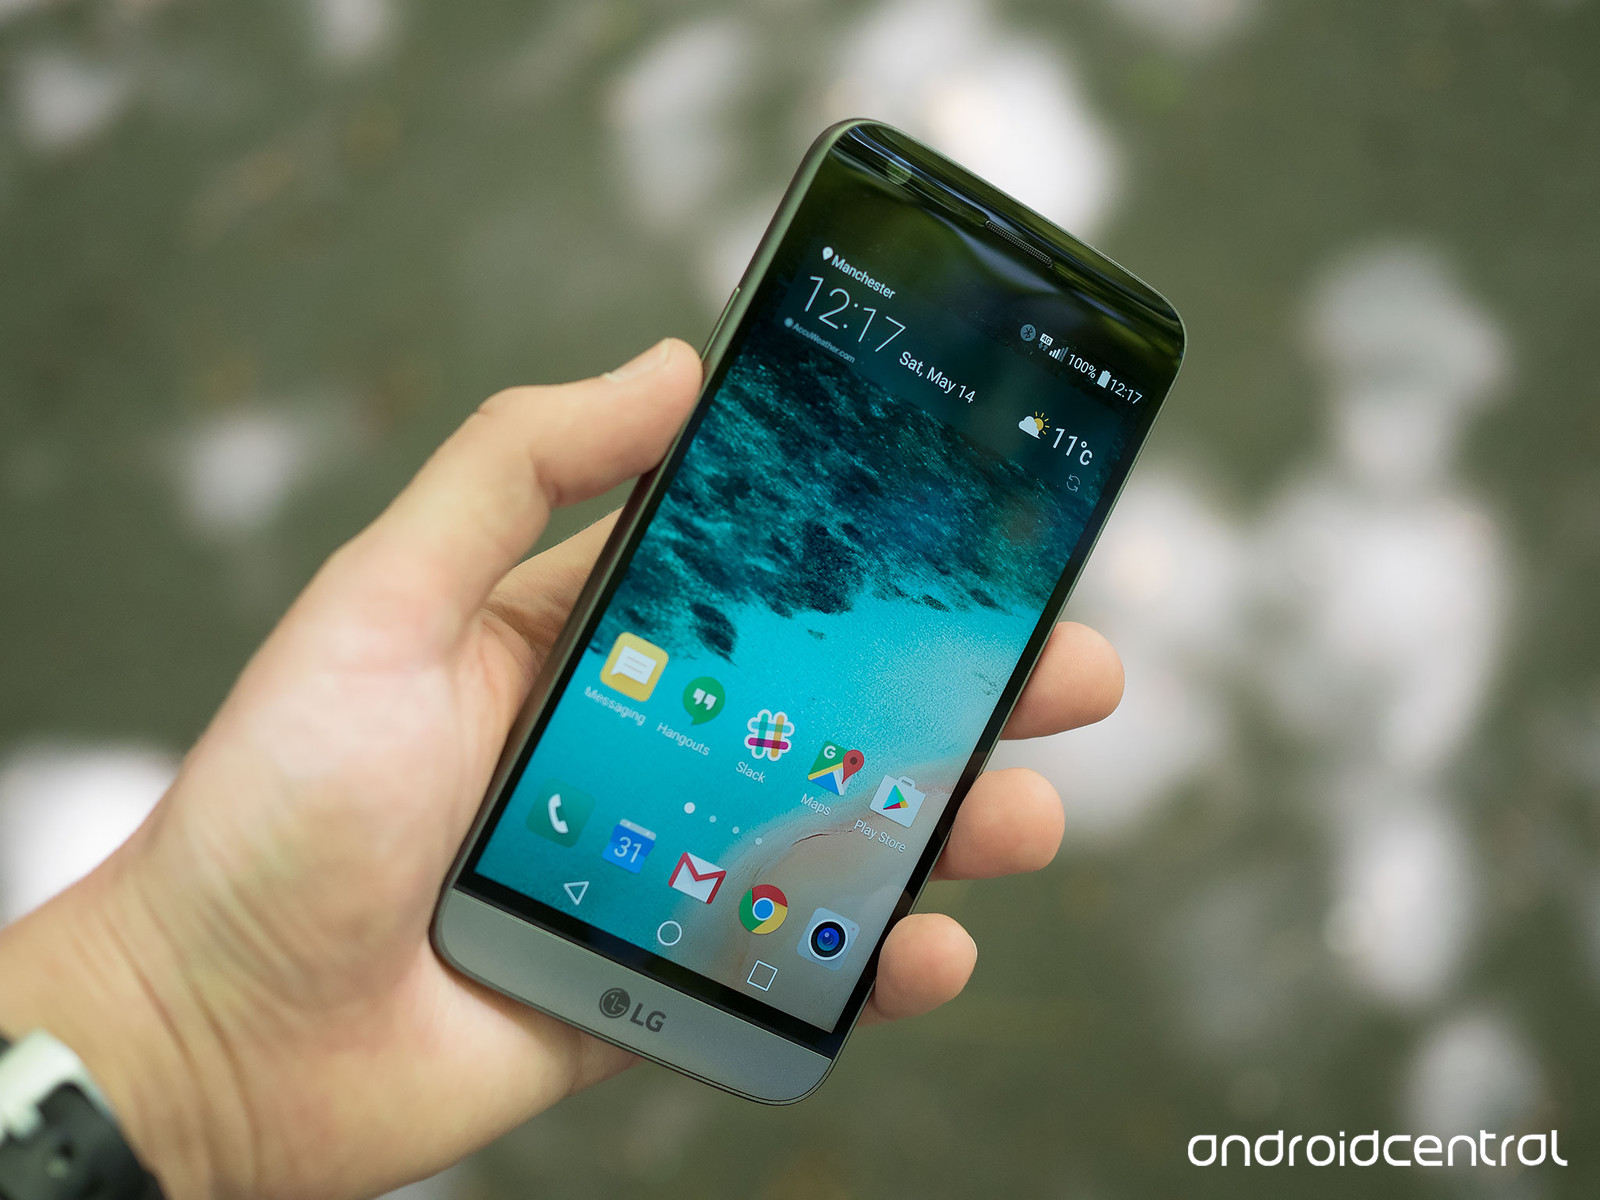smartphone: (427, 117, 1187, 1107)
